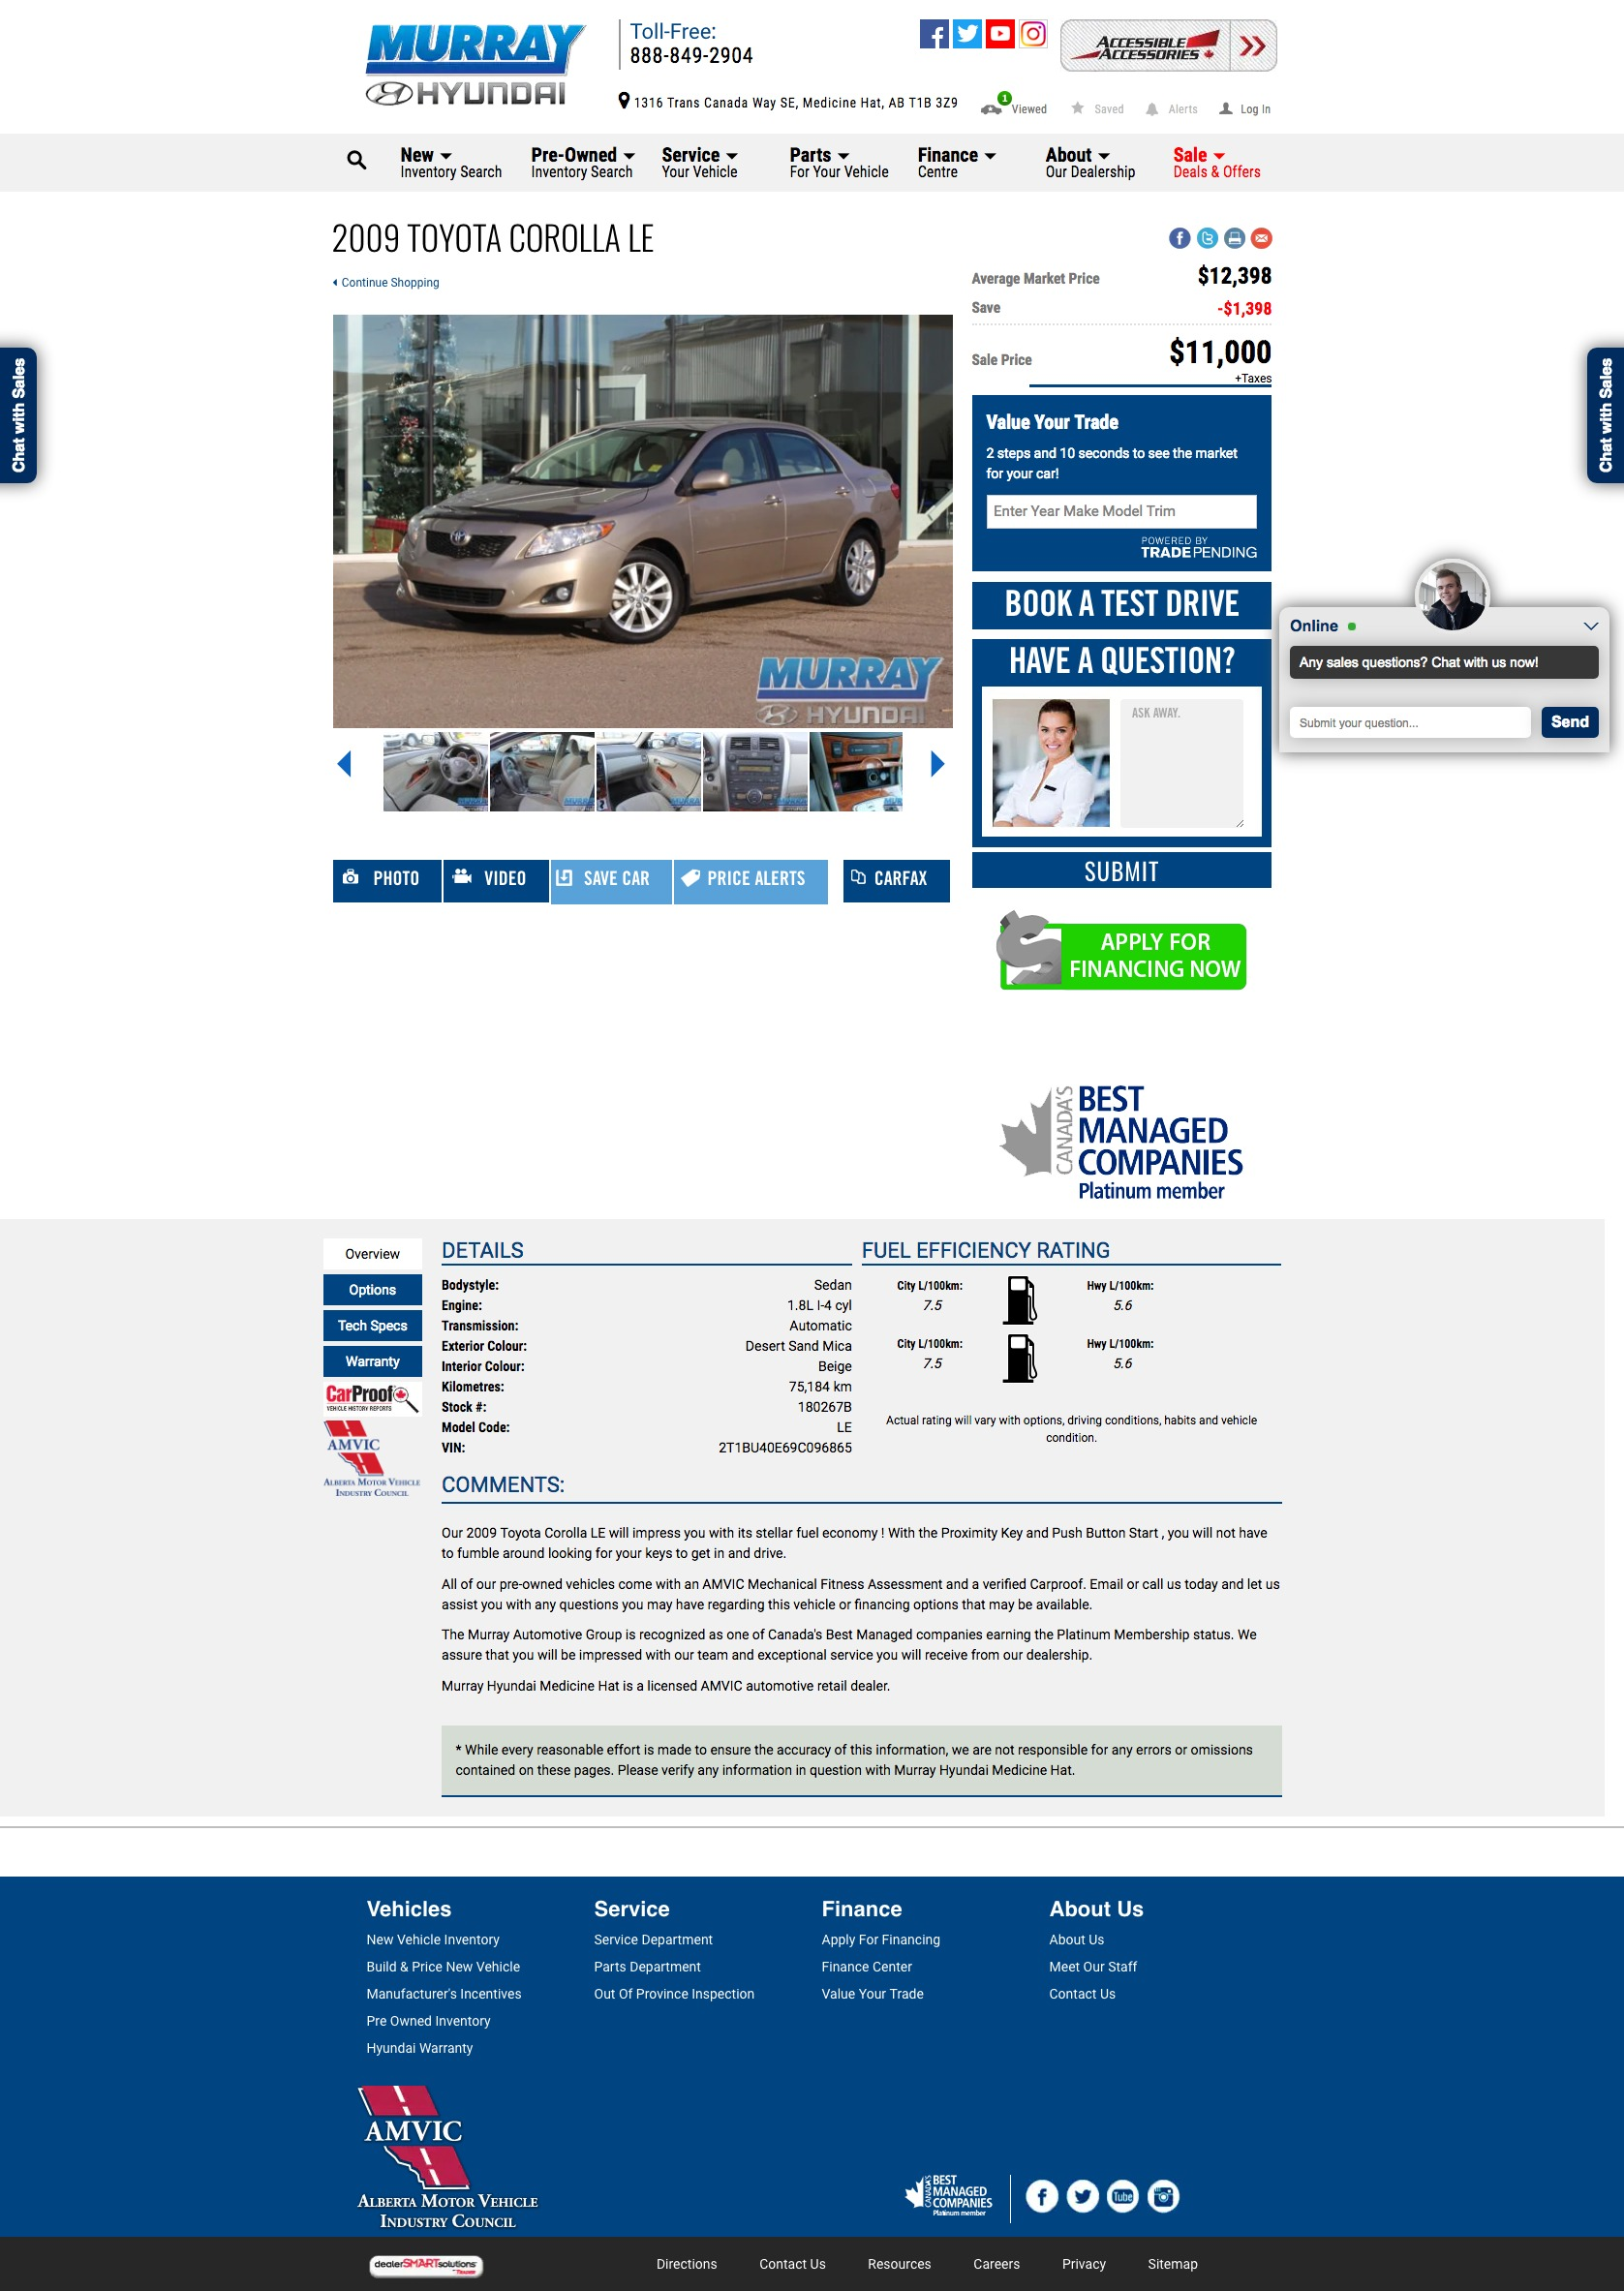car: (930, 750, 946, 780)
